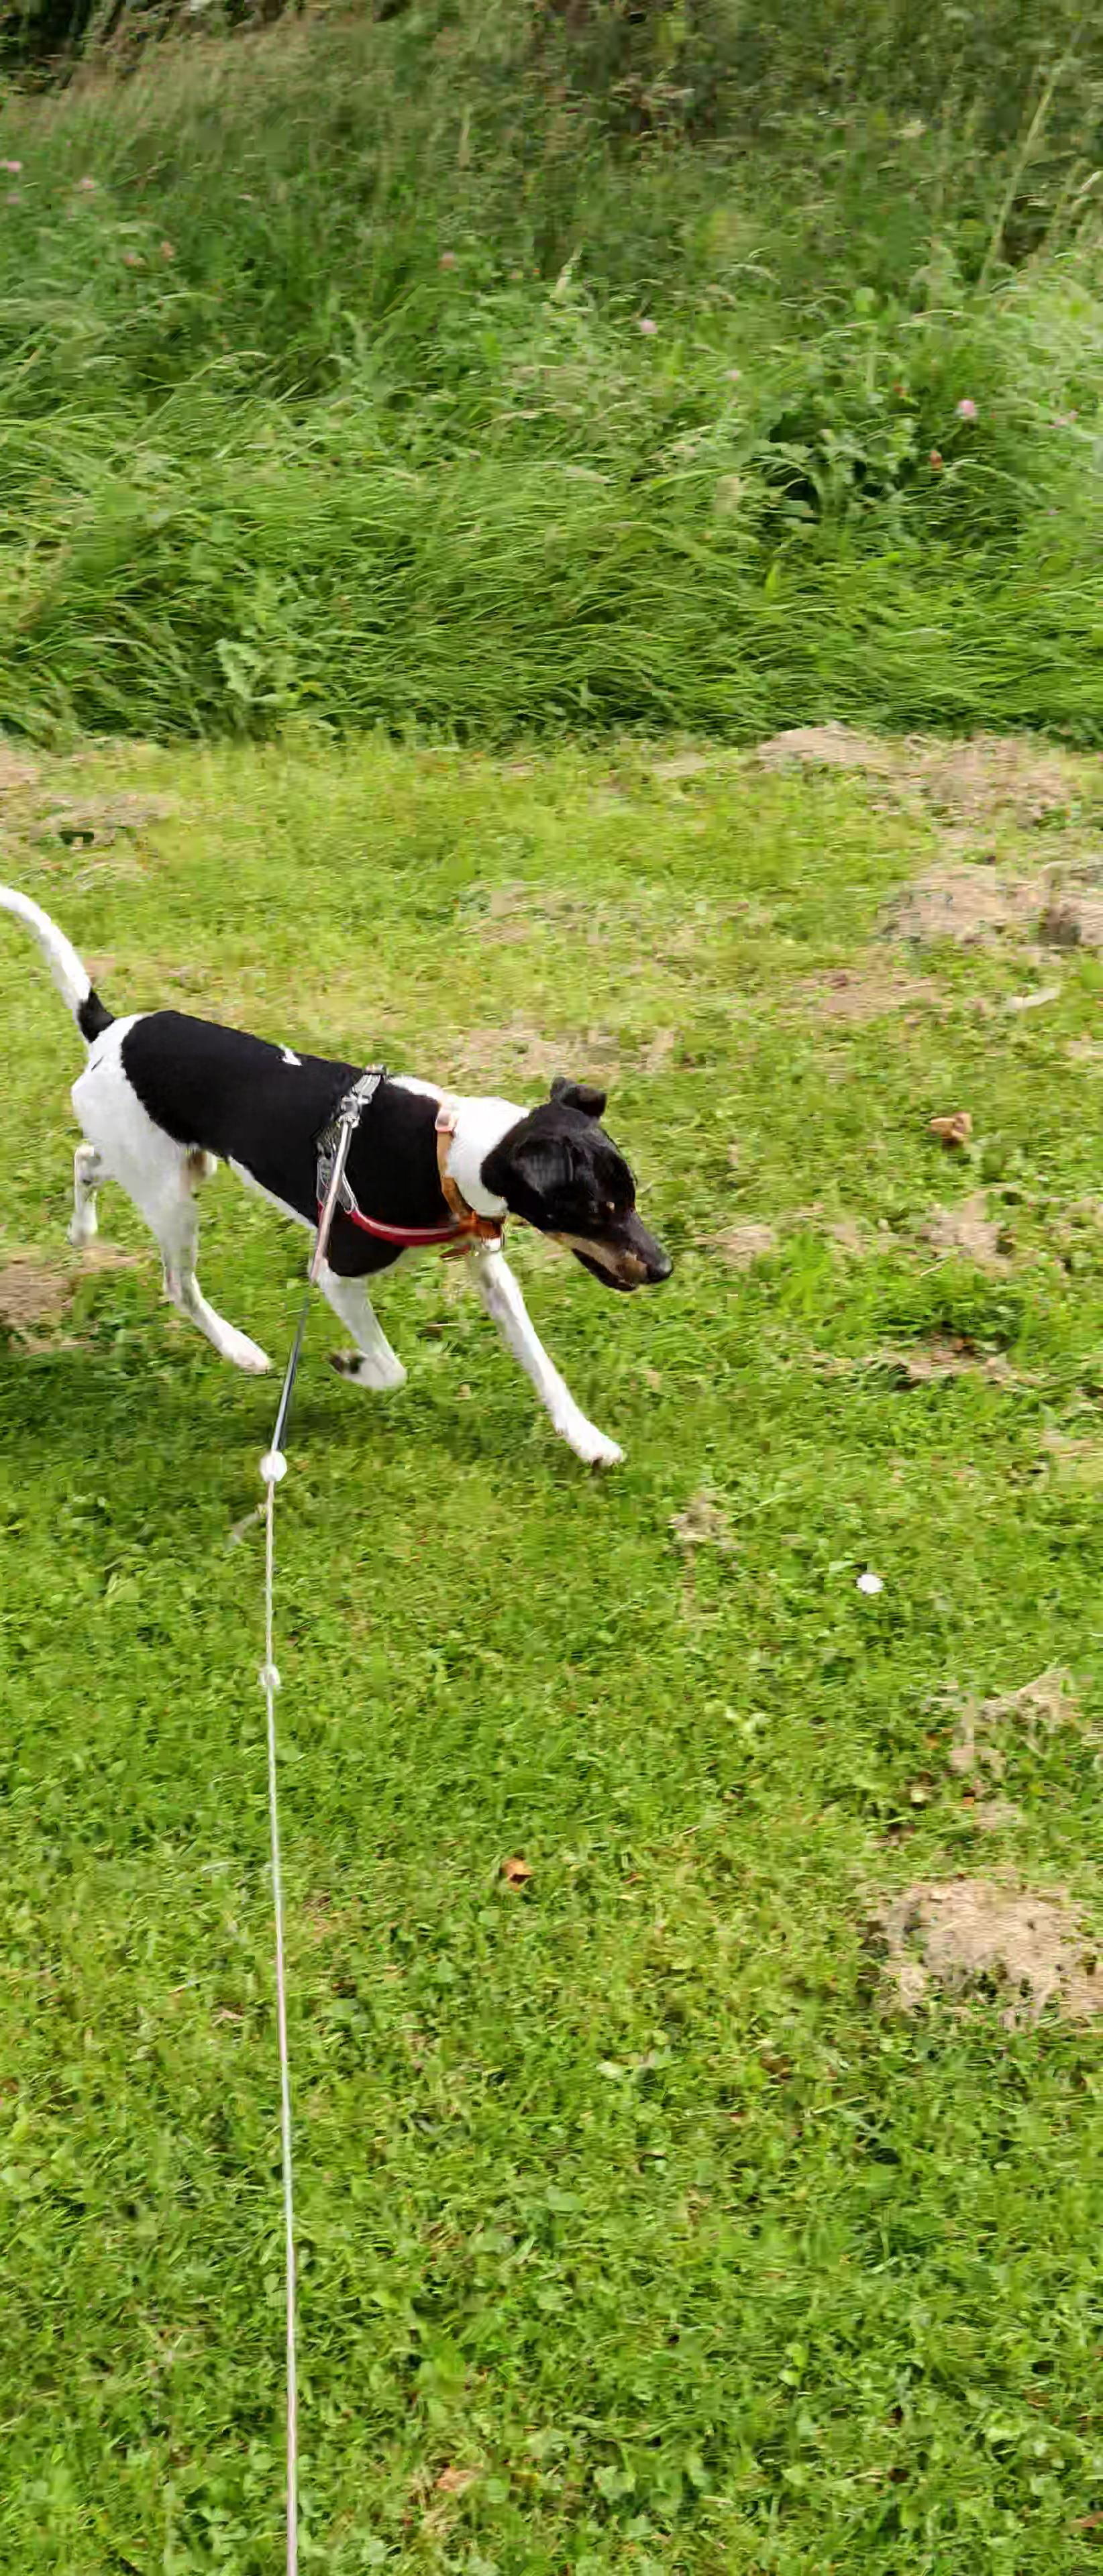Dog: (0, 846, 736, 1500)
